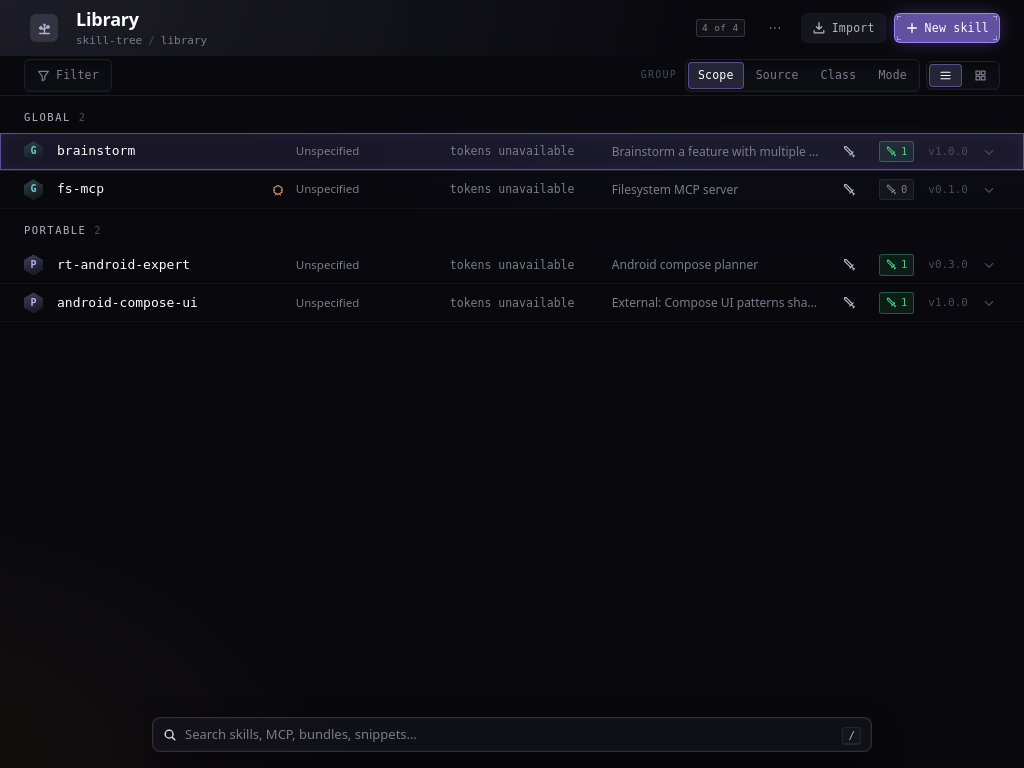
Test: SkillLibrary source filter + grouping › groups by source when BY SOURCE is selected and persists the choice
GROUP is always in the right cluster — no Filter popover involved.
Click the button titled "Group by source": (777,76) [746, 62, 809, 89]
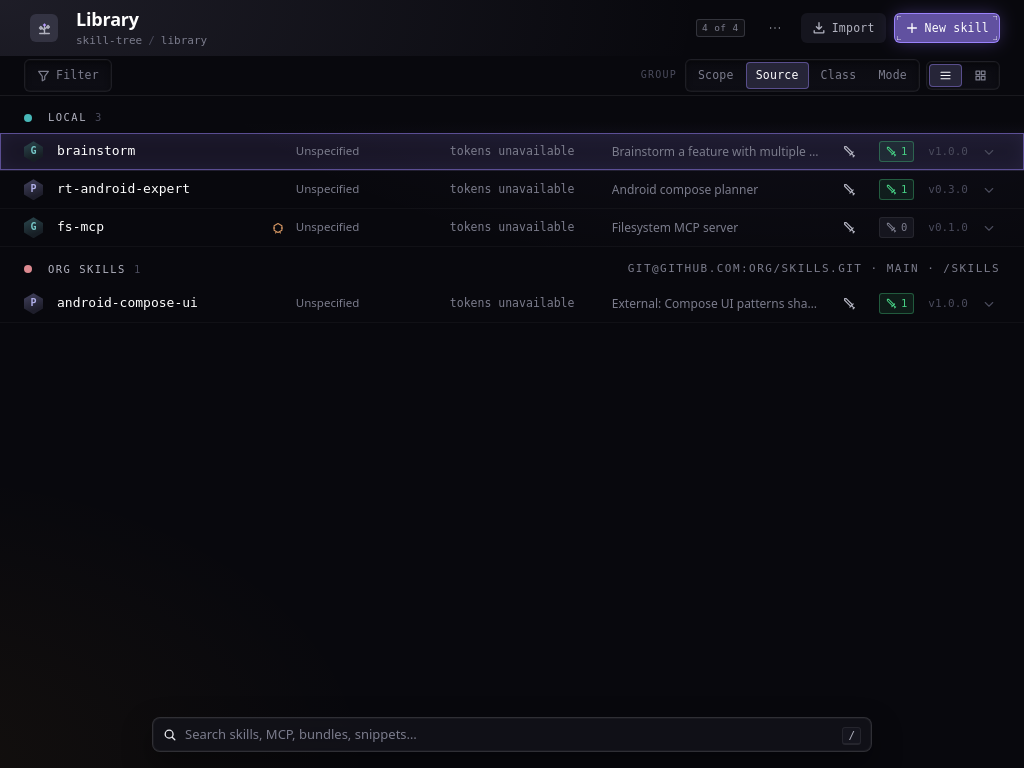
Check: the text "ORG SKILLS" is shown, box [48, 262, 126, 277]
